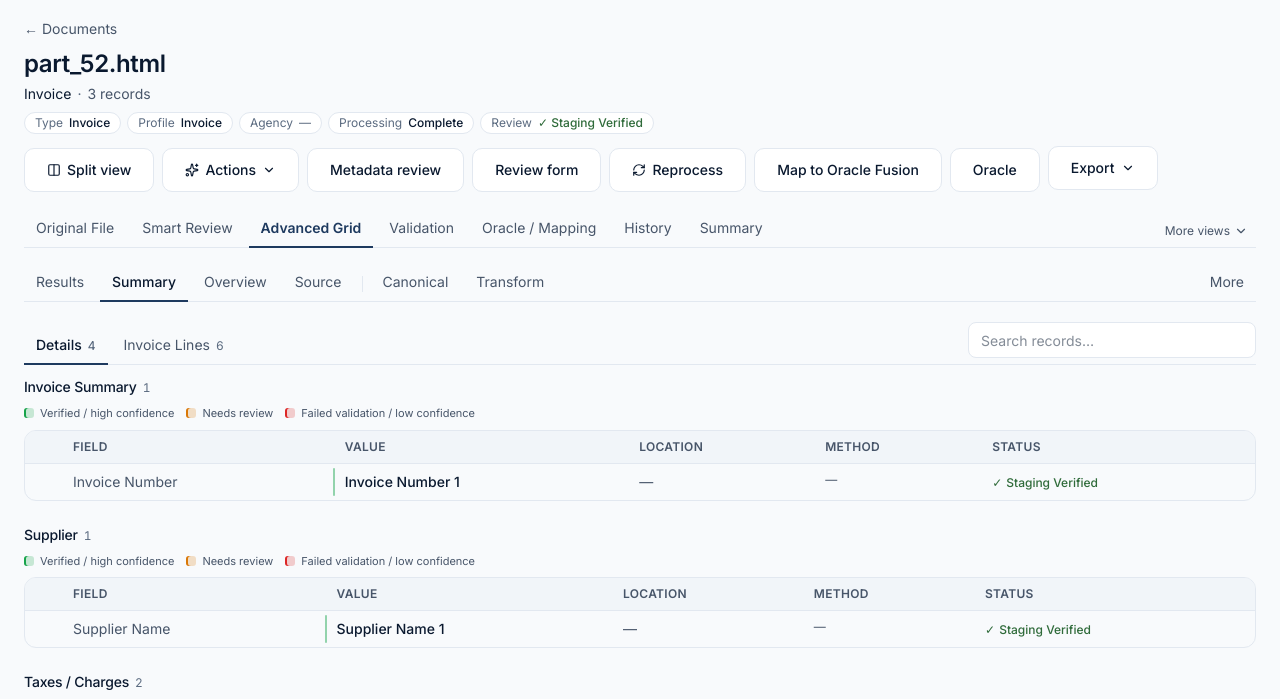
DocumentWorkspace combines small dataset tabs › puts datasets of 5 records or fewer on one tab, each as its own section; larger ones keep their tab
The image size is (1280, 699).
Expected: the element "Invoice Summary" is shown, [24,377,1256,500]
Expected: the element "Supplier" is shown, [24,524,1256,648]
What coordinates should you click on to do the following:
click the tab "Invoice Lines6"
I would click on:
 (174, 346)
Its box is [112,327,236,365].
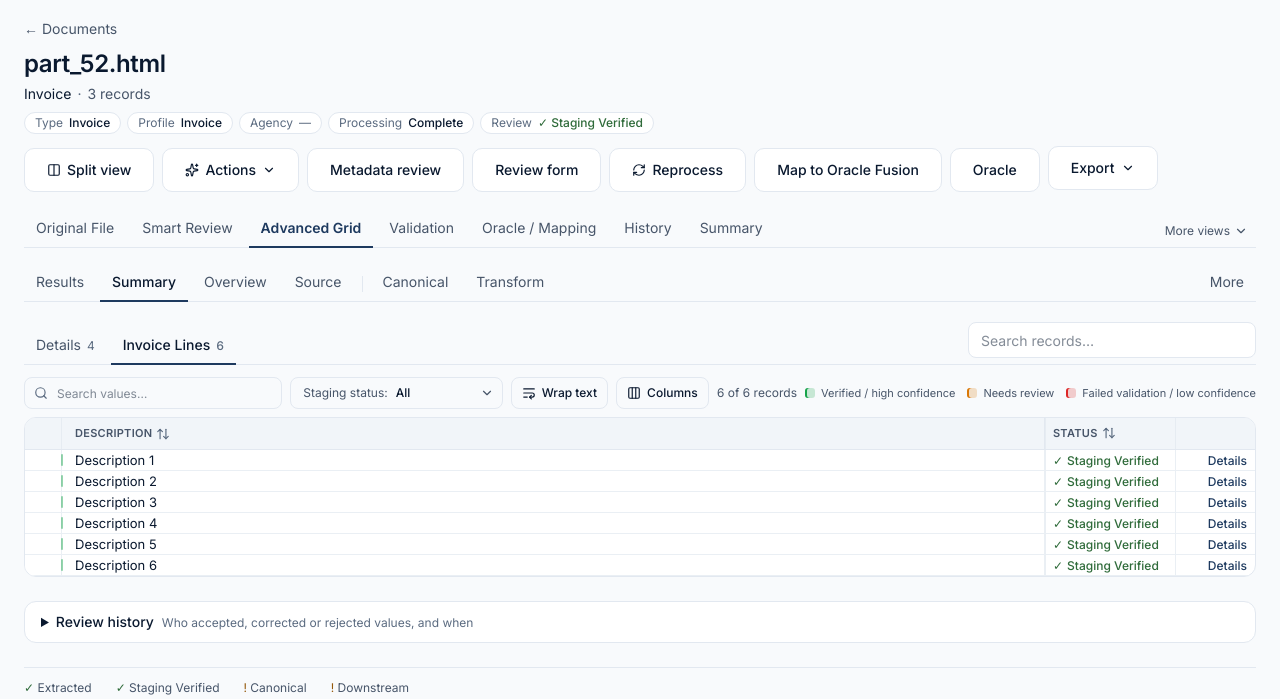
Result: the heading "Supplier" is gone
Result: the text "Description 6" is shown at [75,557,157,573]
